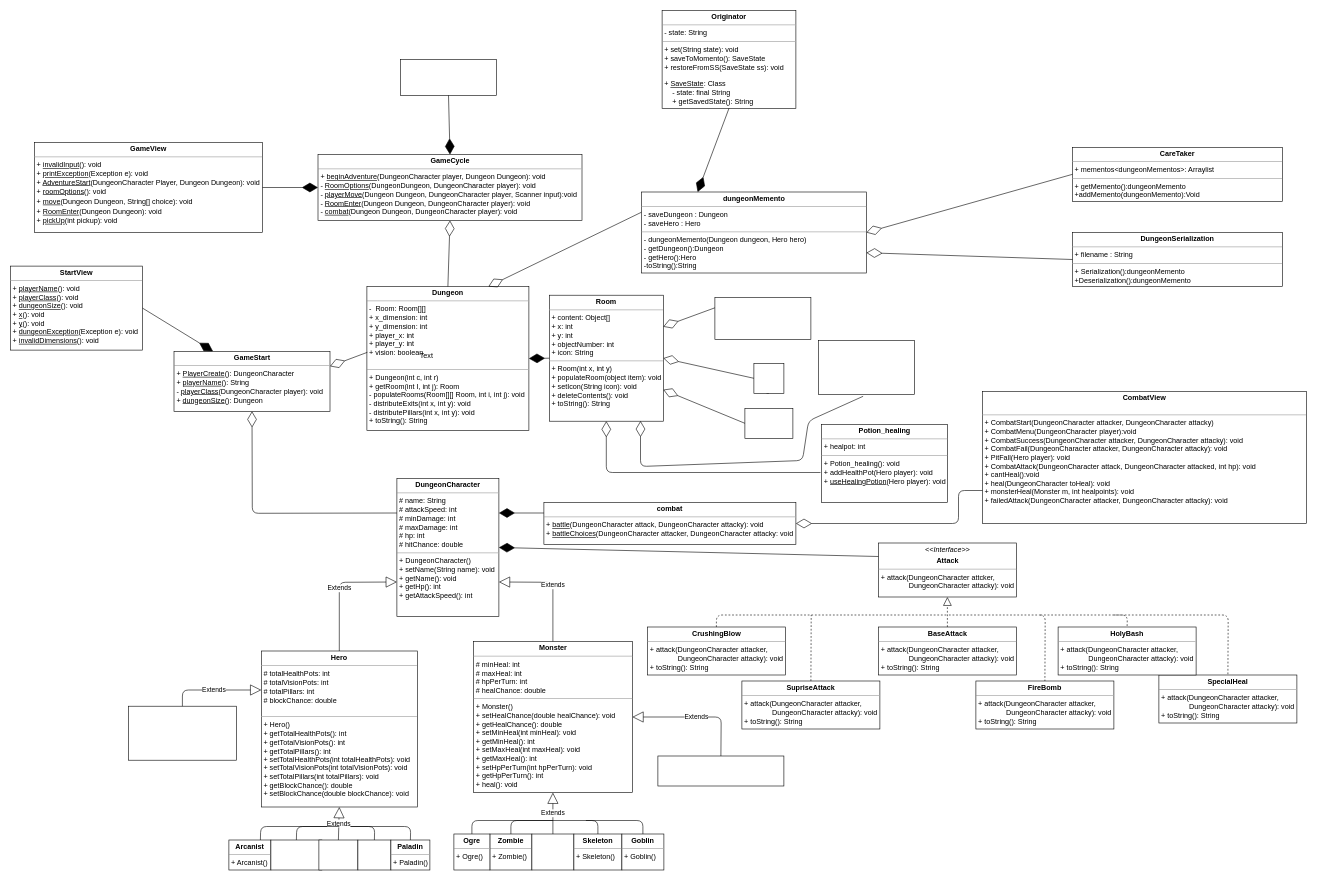
Some shapes in this 1317 by 881 pixel diagram are drawn without their labels. Each missing label, with the centre of its shape:
"dungeonAdventure + main (String[] args): void" goes at (448,77).
"entrance + entrance()" goes at (768,423).
"exit + exit()" goes at (768,378).
"Gremlin + Gremlin()" goes at (552,851).
"HeroFactory + makeHero (String type): Hero" goes at (182,733).
"MonsterFactory + makeMonster(String type): Monster" goes at (720,770).
"Pit + Pit(): void + damagePit(Hero you): void" goes at (762,318).
"Potion_vision + Potion_vision(): void" goes at (866,367).
"Sorceress + Sorceress()" goes at (296,854).
"Thief + Thief()" goes at (374,854).
"Warrior + Warrior()" goes at (338,854).
